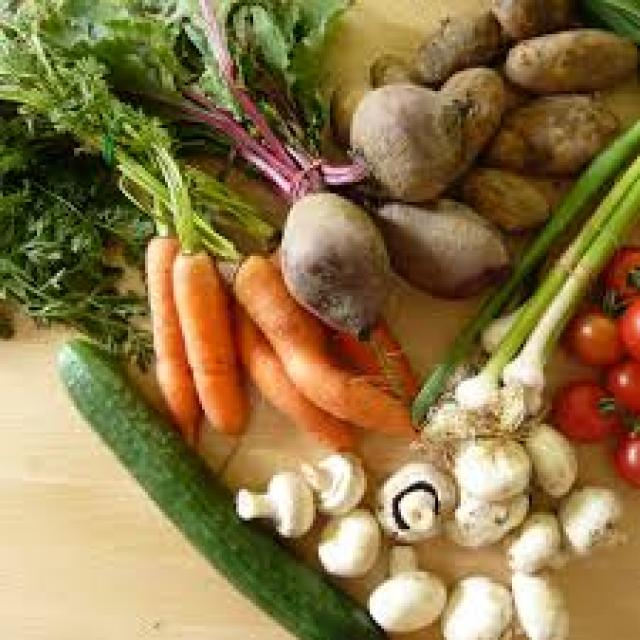organic waste: (54, 333, 381, 637), (0, 0, 361, 202), (410, 111, 637, 412), (0, 26, 276, 264), (418, 150, 637, 427), (219, 248, 412, 435), (0, 173, 151, 367), (233, 299, 356, 452), (321, 80, 461, 204), (279, 188, 387, 344), (165, 242, 247, 438), (370, 191, 509, 293), (407, 63, 506, 196), (142, 228, 202, 447), (487, 88, 618, 174), (498, 23, 634, 94), (364, 540, 444, 632), (373, 455, 455, 543), (330, 319, 415, 398), (227, 464, 313, 540), (458, 162, 549, 231), (407, 8, 495, 77), (557, 481, 626, 560), (296, 449, 367, 515), (549, 378, 623, 441), (438, 572, 509, 637), (515, 418, 574, 495), (441, 492, 523, 546), (313, 504, 375, 574), (452, 438, 524, 495), (509, 569, 566, 637), (484, 0, 574, 43), (500, 503, 558, 569), (560, 304, 620, 367), (592, 242, 637, 307), (586, 0, 637, 40), (609, 356, 637, 412), (614, 421, 638, 481), (617, 287, 637, 356)
